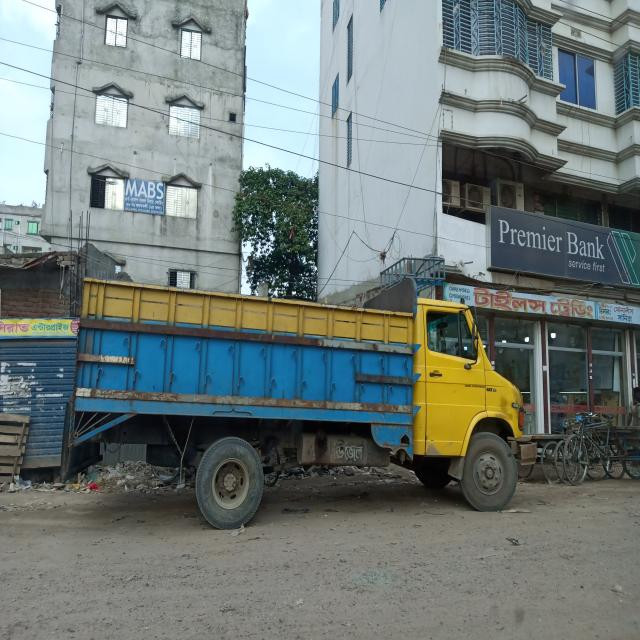truck: (58, 254, 527, 551)
